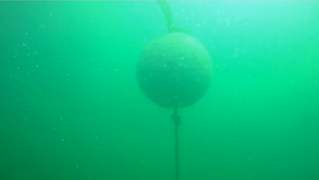buoy: (135, 32, 214, 109)
